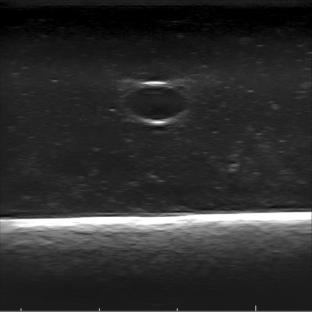vessel: (122, 80, 190, 125)
